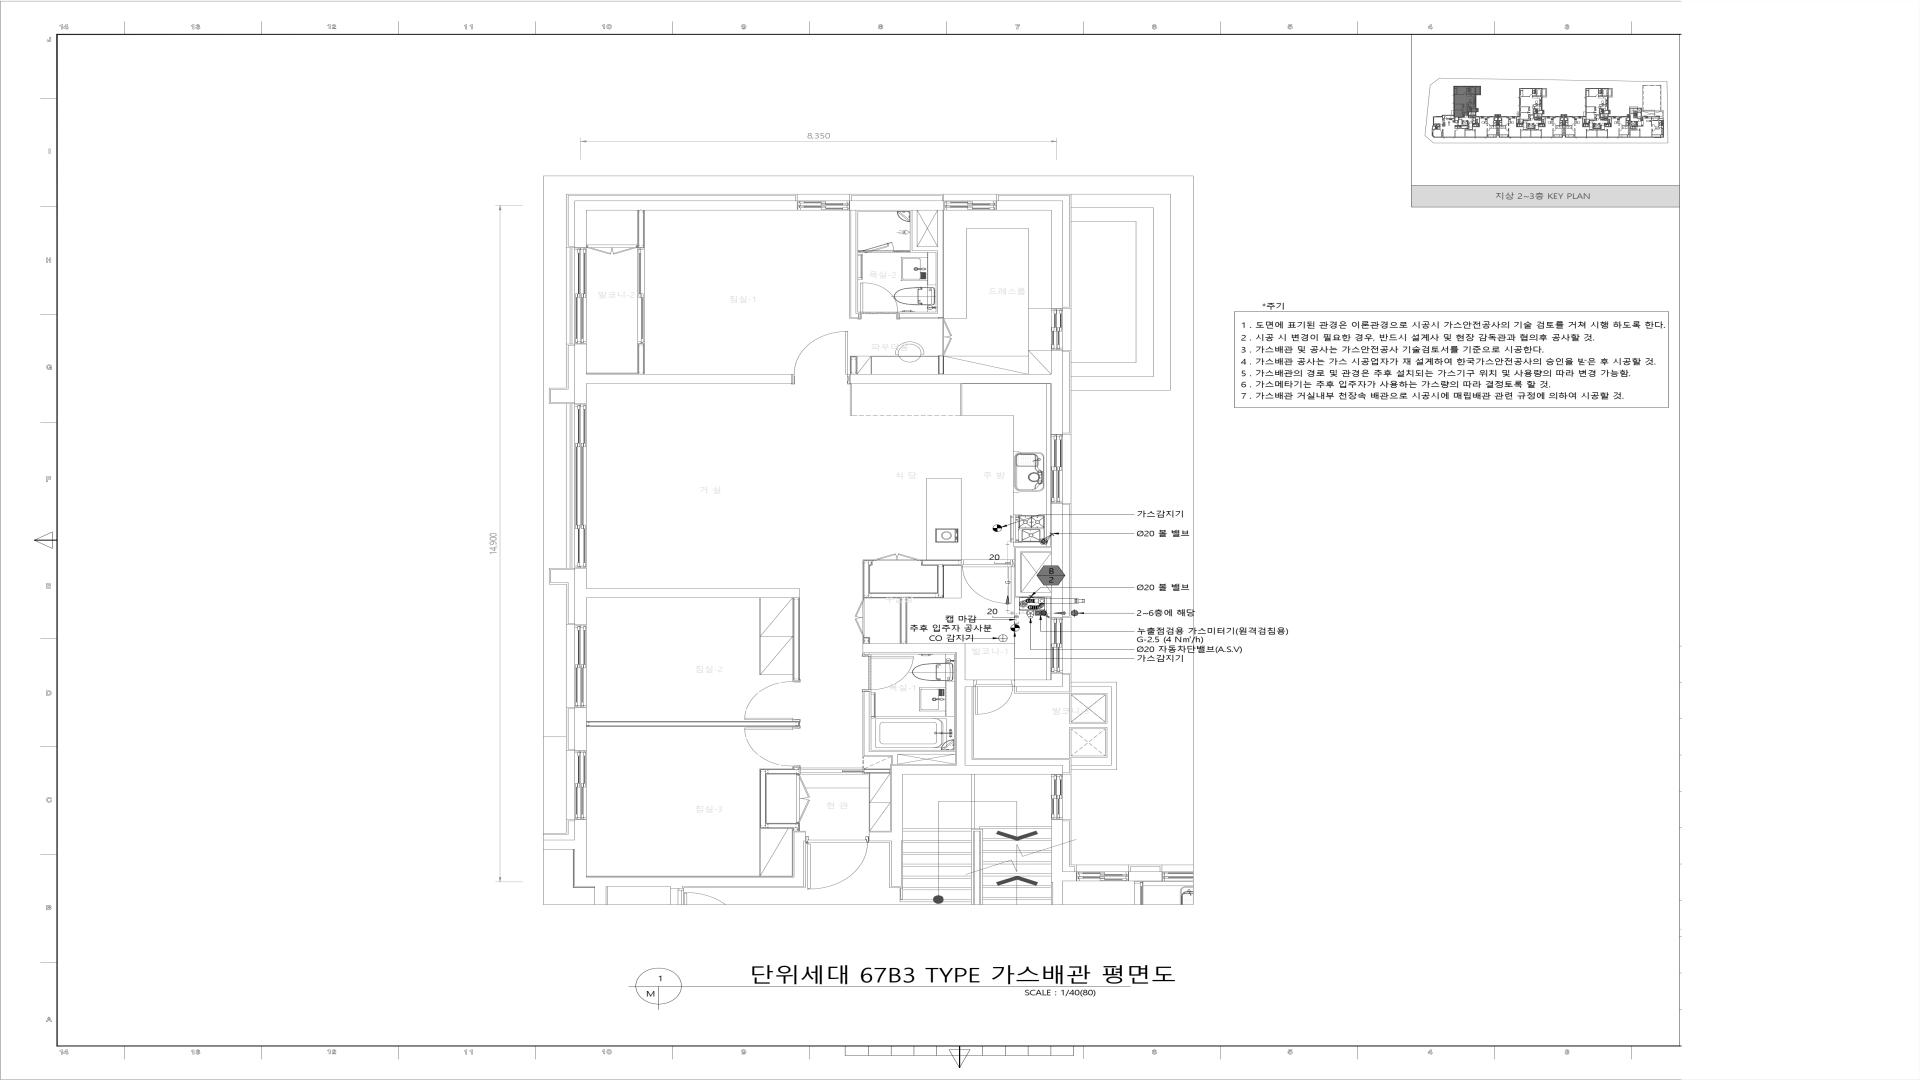door: (806, 836, 869, 890), (793, 331, 851, 384), (961, 560, 1014, 604), (744, 727, 799, 767), (745, 680, 799, 721), (862, 654, 914, 691), (858, 282, 899, 318), (973, 679, 1014, 715), (637, 248, 645, 343), (855, 597, 870, 638), (872, 554, 923, 566), (938, 318, 952, 356), (587, 245, 638, 255), (799, 767, 864, 774), (858, 243, 894, 252)
wall: (587, 877, 803, 886), (587, 588, 799, 597), (587, 200, 796, 210), (587, 375, 791, 384), (851, 375, 1051, 384), (891, 765, 1063, 774), (1051, 504, 1063, 617), (891, 774, 903, 886), (1051, 210, 1063, 309), (587, 721, 799, 727), (1051, 819, 1063, 905), (1051, 349, 1063, 434), (849, 200, 944, 210), (851, 210, 858, 318), (862, 644, 965, 651), (575, 820, 587, 886), (956, 686, 965, 765), (575, 344, 587, 404), (575, 568, 587, 625), (996, 200, 1063, 210), (575, 200, 587, 248), (938, 210, 943, 314), (793, 597, 799, 680), (794, 832, 806, 877), (575, 708, 587, 750), (870, 592, 938, 599), (1112, 687, 1117, 770), (899, 599, 907, 644), (864, 691, 869, 756), (637, 210, 645, 248), (864, 560, 872, 597), (761, 774, 766, 823), (956, 651, 965, 679), (1071, 682, 1117, 687), (1014, 680, 1051, 687), (1015, 553, 1021, 596), (938, 566, 944, 599), (913, 210, 918, 251), (1071, 765, 1112, 770), (638, 343, 645, 375), (869, 832, 891, 841), (923, 560, 961, 566), (761, 769, 799, 774), (761, 823, 799, 828), (1015, 547, 1051, 553), (899, 314, 943, 318), (1051, 673, 1063, 687), (898, 752, 955, 754), (938, 356, 944, 375), (851, 356, 857, 375), (1021, 592, 1051, 596), (869, 752, 898, 756), (956, 679, 973, 686), (864, 769, 890, 773), (918, 247, 938, 251), (893, 756, 898, 765), (864, 638, 869, 644), (894, 251, 910, 252), (793, 828, 799, 831), (862, 651, 869, 654), (794, 767, 799, 769)
window: (575, 404, 587, 568), (575, 248, 587, 344), (575, 625, 587, 708), (575, 750, 587, 820), (1051, 434, 1063, 504), (1051, 617, 1063, 673), (1051, 774, 1063, 819), (796, 200, 849, 210), (1051, 309, 1063, 349), (944, 200, 996, 210)
